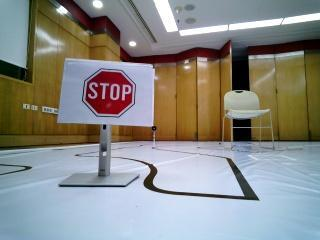stop: (78, 64, 143, 122)
